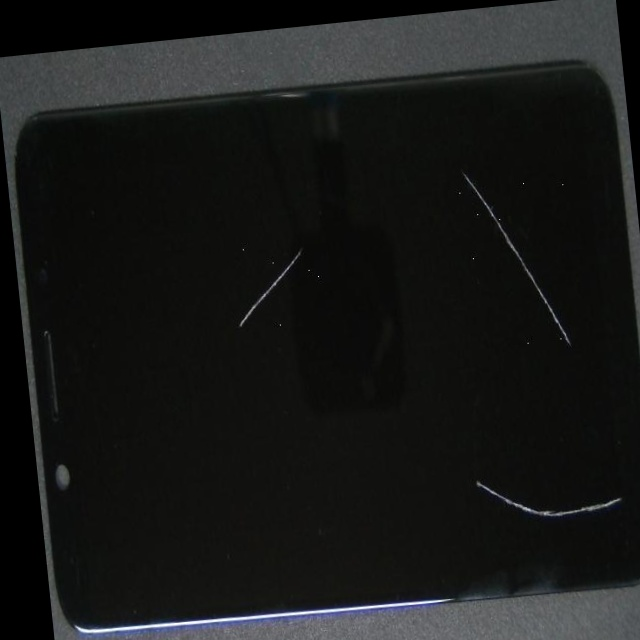scratch: (107, 161, 350, 496), (241, 65, 638, 253)
